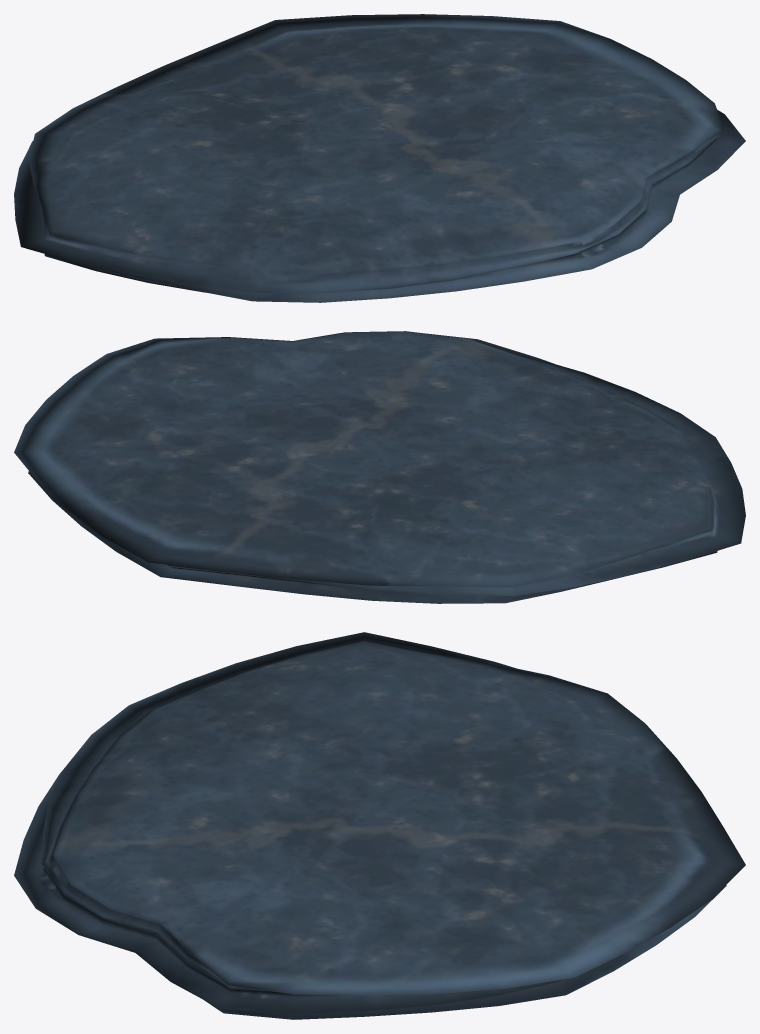
Rendered from thin_shale_05.glb.
3 views of the same model, one above another, from view 1: azimuth 30°, elevation 25°; view 2: azimuth 150°, elevation 25°; view 3: azimuth 270°, elevation 25° (orthographic). The views are drawn at different scales.
Parts seen in each view (by area): view 1: thin_shale_05; view 2: thin_shale_05; view 3: thin_shale_05.
Part boxes in pixels (box(x1,y1,x2,y2)): thin_shale_05: box(14, 14, 745, 302); thin_shale_05: box(14, 331, 745, 603); thin_shale_05: box(14, 632, 745, 1019).
Bounding box in the file's own units: 0.0809 × 0.00527 × 0.0672.
1 material, 1 textured.
